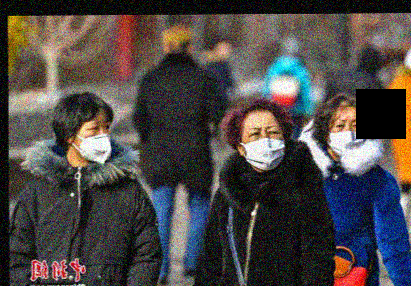with_mask: (239, 121, 285, 170), (73, 114, 112, 162), (329, 115, 366, 152)
